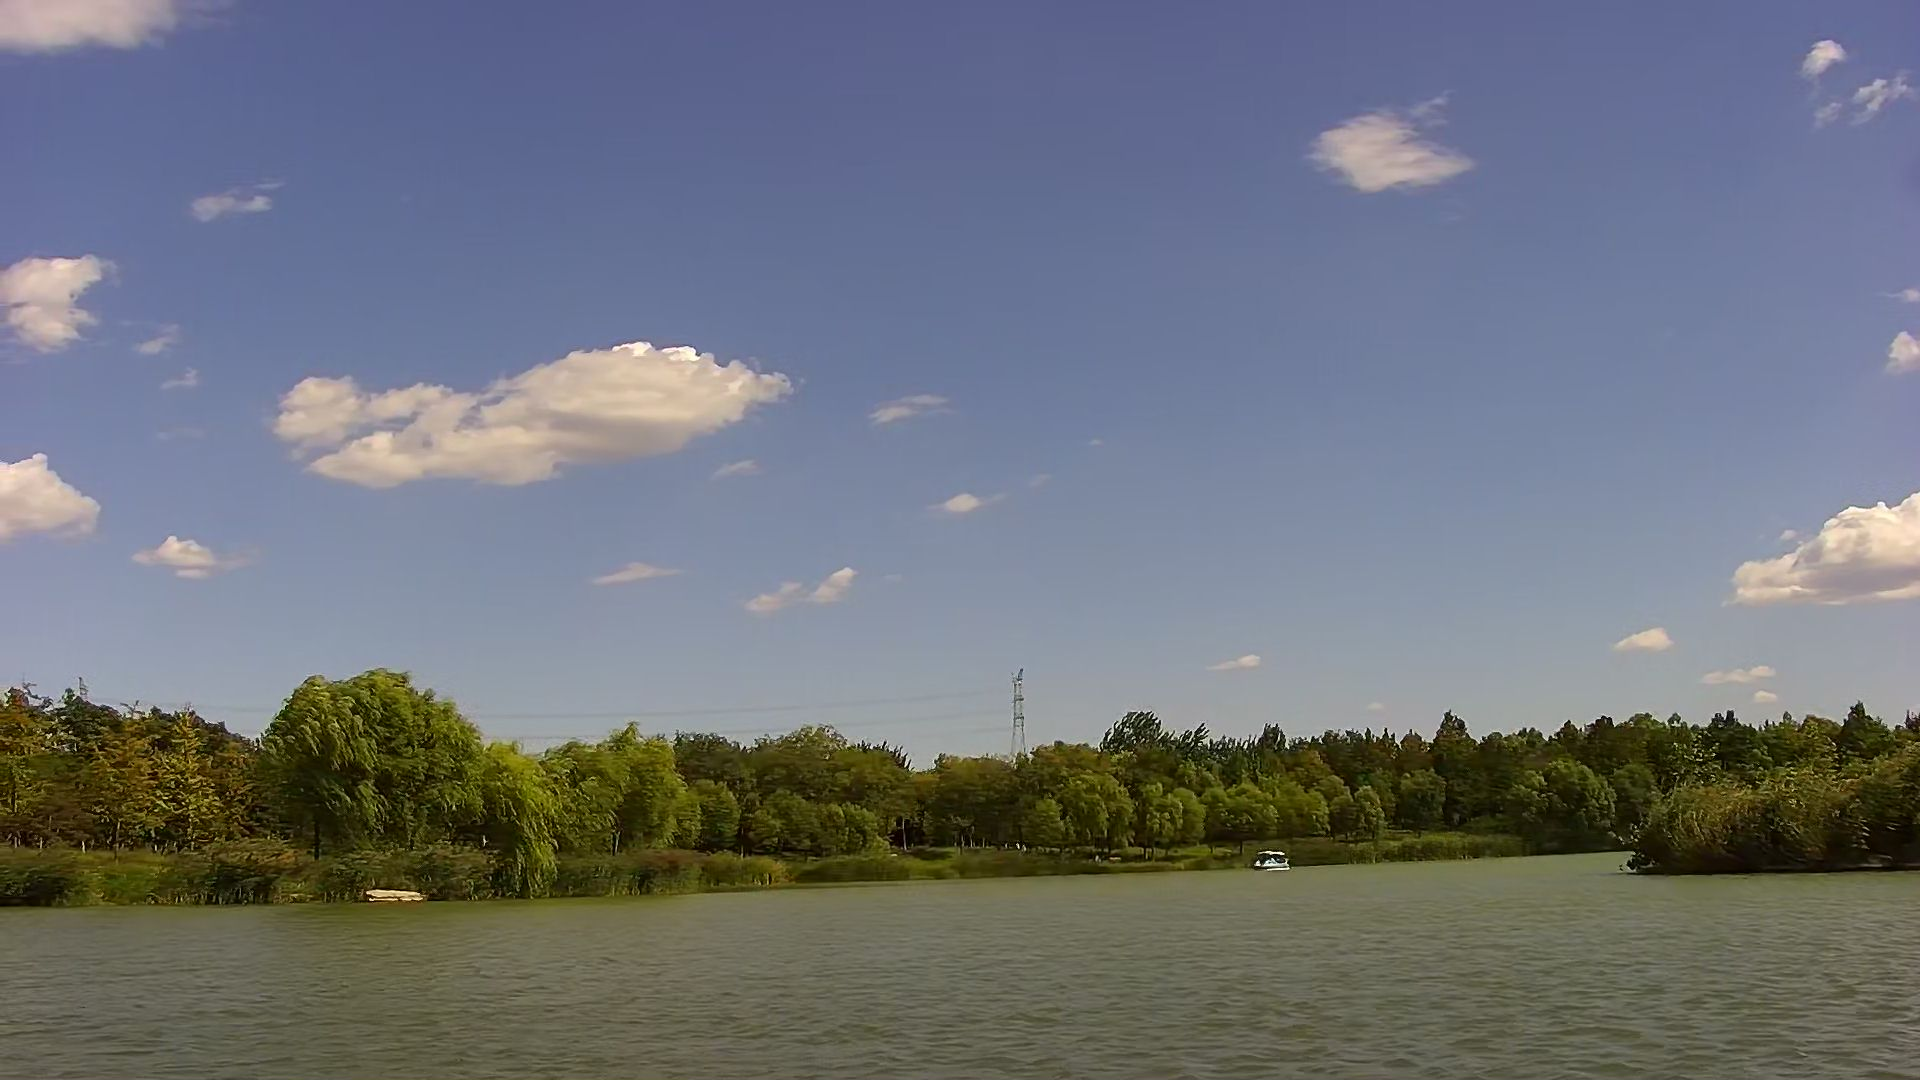boat: (1247, 848, 1298, 876)
